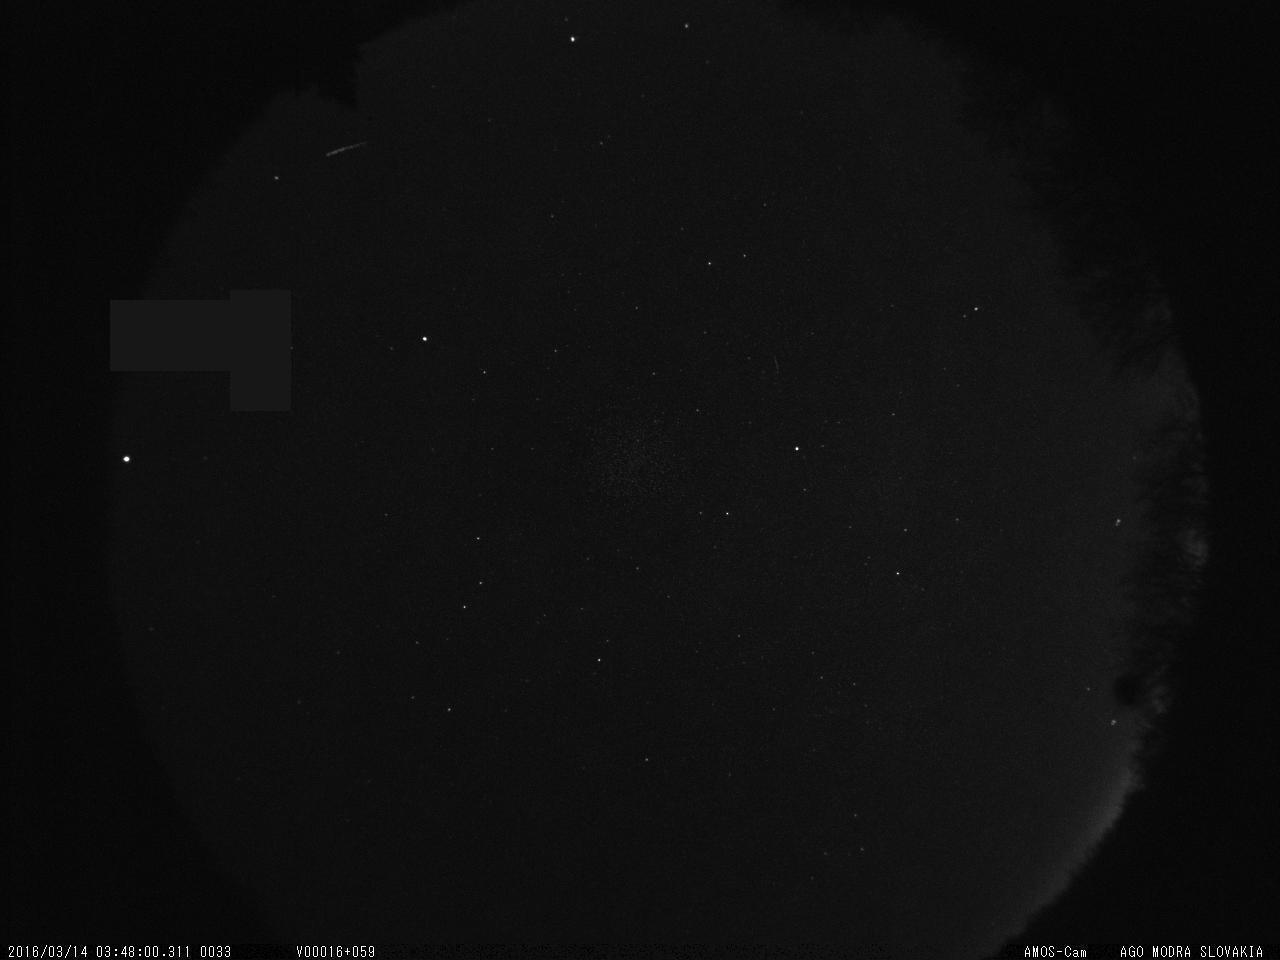Meteor: (318, 130, 380, 168)
